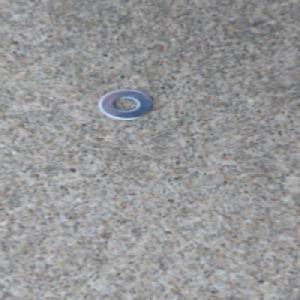Washer: (95, 87, 157, 123)
